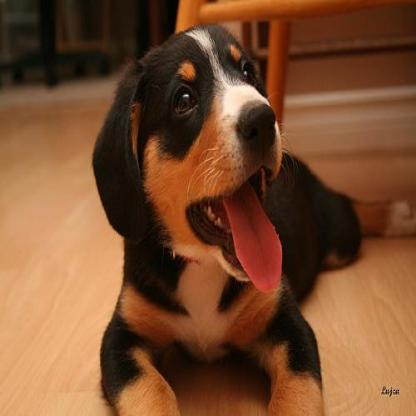EntleBucher: (85, 16, 414, 412)
